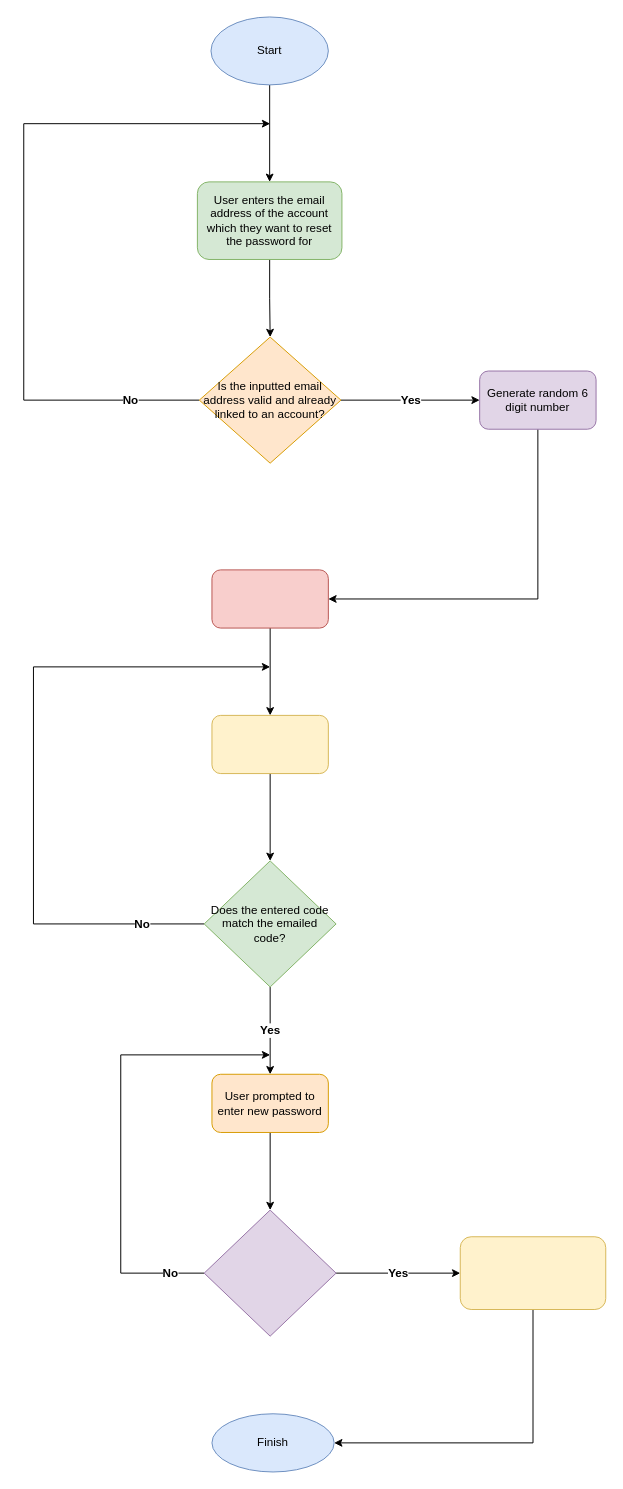
Some shapes in this 623 by 1489 pixel diagram are drawn without their labels. The shapes that lost their labels are listed below. From the top down, each one's box as (x1, y1, x2, y2) in pixels, then its label:
(211, 569, 328, 628): Email the 6 digit code to the specified email address
(211, 714, 328, 774): User prompted to enter the code
(203, 1209, 336, 1336): Does the new password match the password guidelines?
(459, 1236, 606, 1310): Update DB with the hashed version of the new password into the user's record
